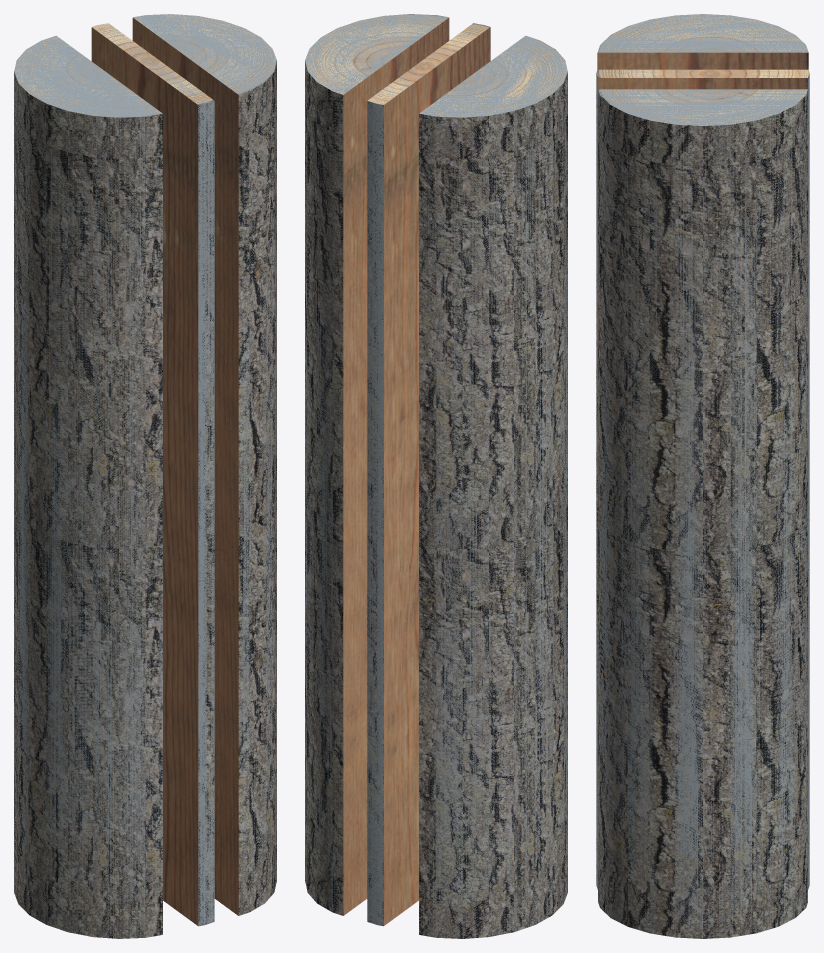
Rendered from plankLogFINAL.fbx.
The picture shows the model from 3 angles, left to right: view 1: azimuth 30°, elevation 25°; view 2: azimuth 150°, elevation 25°; view 3: azimuth 270°, elevation 25°; orthographic projection.
Parts seen in each view (by area): view 1: left1, right1, plank1; view 2: left1, right1, plank1; view 3: right1, left1, plank1.
Part boxes in pixels (<box>): left1: <box>14,35,162,938</box>; right1: <box>132,14,276,915</box>; plank1: <box>91,23,214,926</box>; left1: <box>419,35,567,938</box>; right1: <box>305,14,449,915</box>; plank1: <box>367,23,490,926</box>; right1: <box>598,89,807,938</box>; left1: <box>597,14,808,69</box>; plank1: <box>596,69,809,889</box>.
Bounding box in the file's own units: 591 × 2000 × 476.
